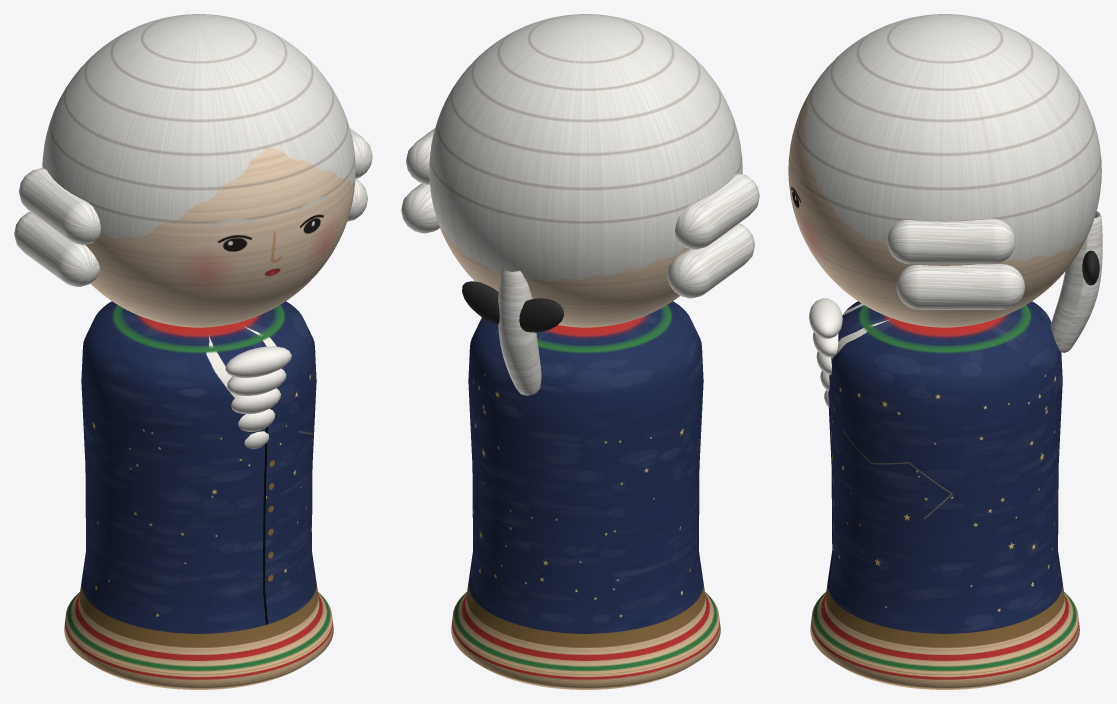
Rendered from kant.glb.
The picture shows the model from 3 angles, left to right: view 1: azimuth 30°, elevation 25°; view 2: azimuth 150°, elevation 25°; view 3: azimuth 270°, elevation 25°; orthographic projection.
Parts seen in each view (by area): view 1: body, head, Immanuel Kant; view 2: body, head, Immanuel Kant; view 3: body, head, Immanuel Kant.
Part boxes in pixels (left/top/right/bottom): body: left=64, top=301, right=333, bottom=689; head: left=42, top=14, right=355, bottom=327; Immanuel Kant: left=14, top=128, right=372, bottom=449; body: left=451, top=301, right=720, bottom=689; head: left=429, top=14, right=742, bottom=327; Immanuel Kant: left=401, top=128, right=759, bottom=395; body: left=810, top=301, right=1079, bottom=689; head: left=788, top=14, right=1101, bottom=327; Immanuel Kant: left=809, top=211, right=1102, bottom=407.
Size of the model in its own units: 0.0848 by 0.1605 by 0.0752.
Materials: 6 (3 with a texture image).
